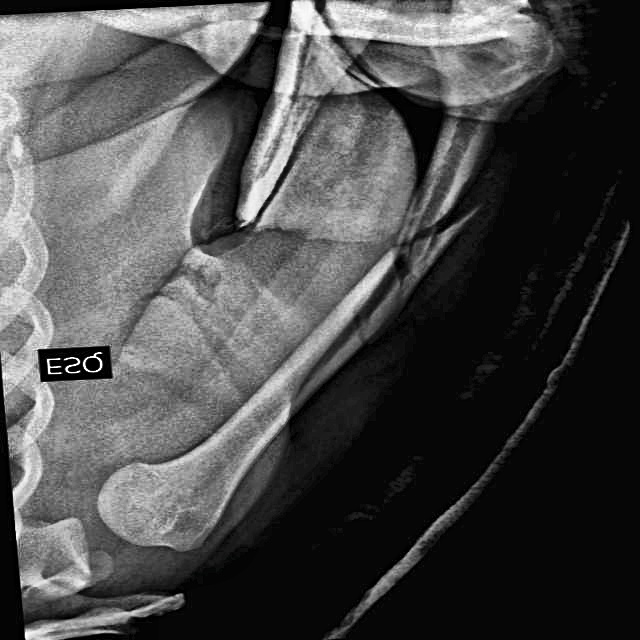Spiral: (350, 180, 489, 335)
